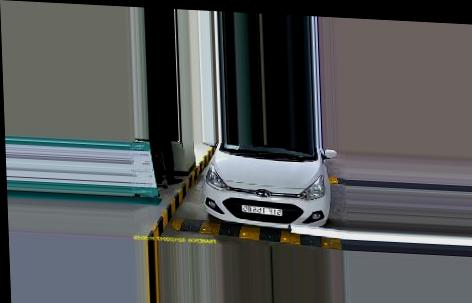License_Plate: (242, 203, 283, 215)
